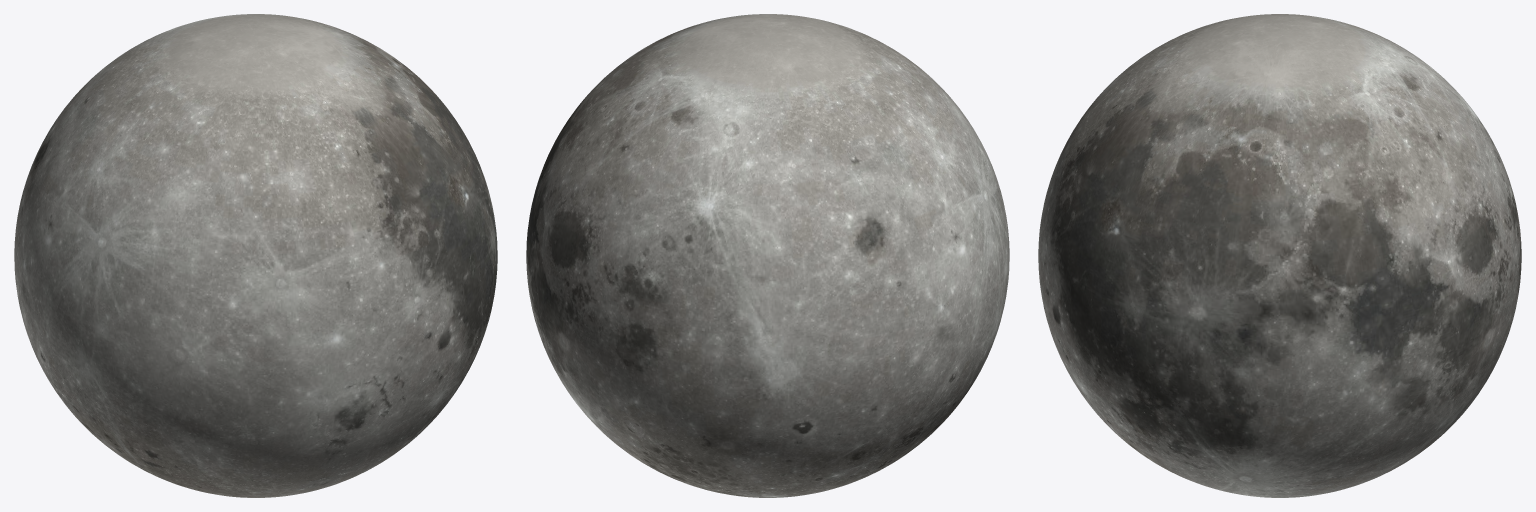
Rendered from moon.glb.
3 renders of one model, left to right at view 1: azimuth 30°, elevation 25°; view 2: azimuth 150°, elevation 25°; view 3: azimuth 270°, elevation 25°, orthographic.
Parts seen in each view (by area): view 1: 球體; view 2: 球體; view 3: 球體.
Part boxes in pixels (x1=…): 球體: x1=14, y1=14, x2=497, y2=497; 球體: x1=526, y1=14, x2=1009, y2=497; 球體: x1=1038, y1=14, x2=1521, y2=497.
Bounding box in the file's own units: 1.99 × 2 × 1.99.
1 material, 1 textured.
